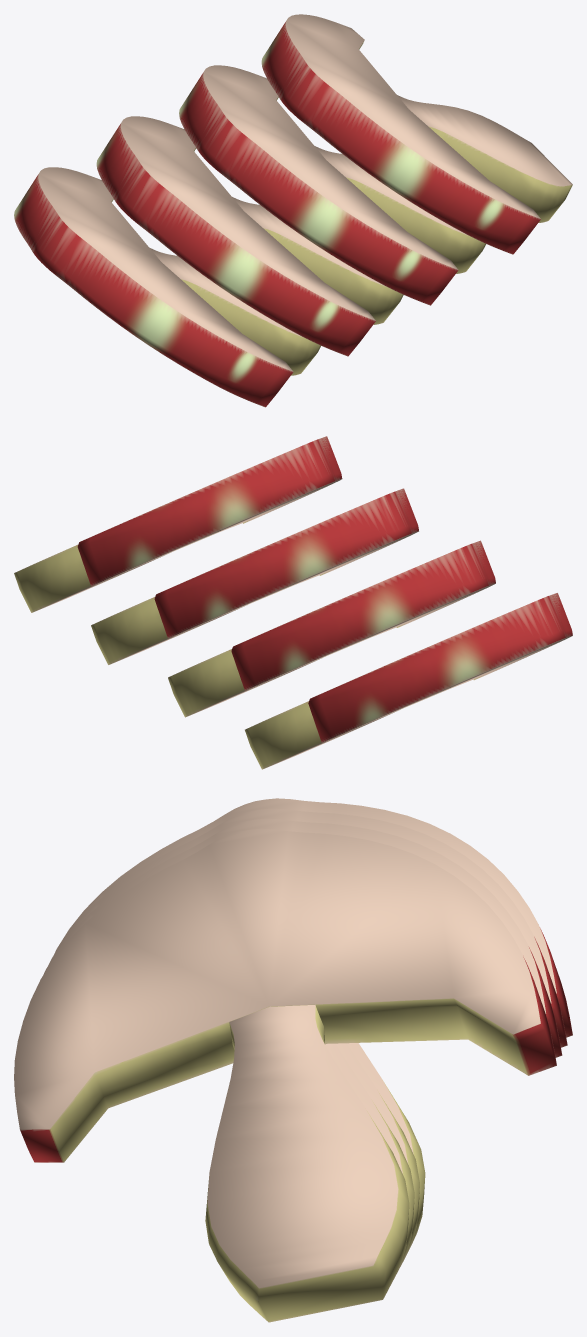
Rendered from Venenoso_cortado.fbx.
3 views of the same model, one above another, from view 1: azimuth 30°, elevation 25°; view 2: azimuth 150°, elevation 25°; view 3: azimuth 270°, elevation 25° (orthographic). The views are drawn at different scales.
Parts seen in each view (by area): view 1: Venenoso_Cortado; view 2: Venenoso_Cortado; view 3: Venenoso_Cortado.
Part boxes in pixels (<box>): Venenoso_Cortado: <box>14,14,572,407</box>; Venenoso_Cortado: <box>14,436,572,769</box>; Venenoso_Cortado: <box>14,798,572,1322</box>.
Size of the model in its own units: 216 by 123 by 134.
